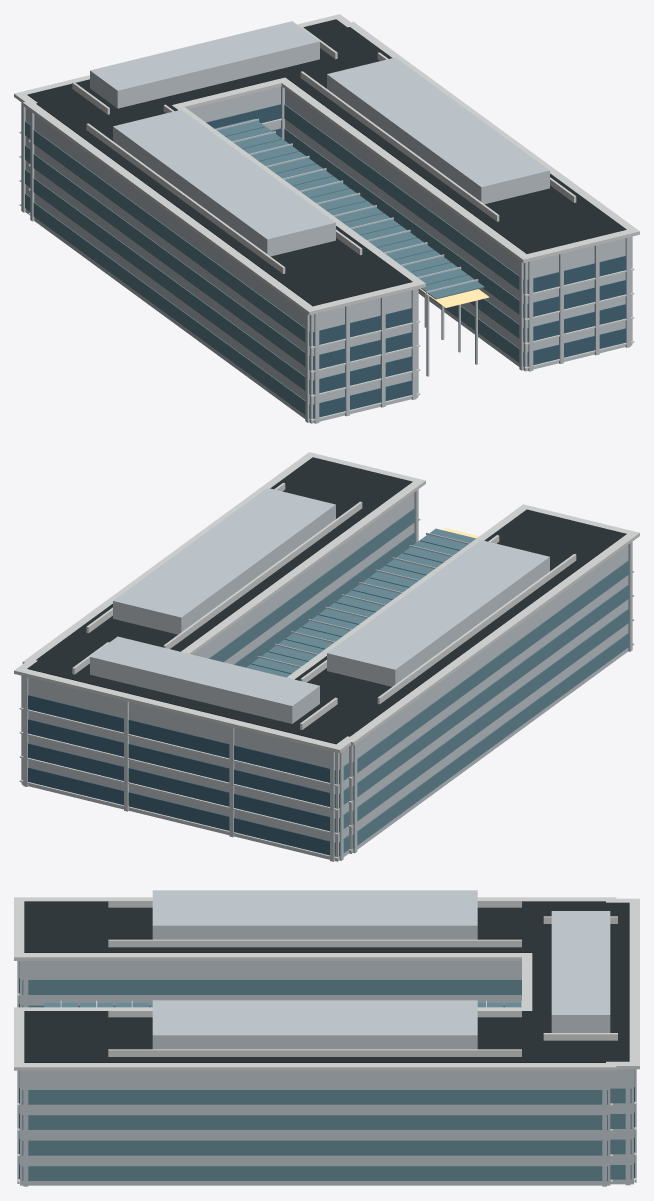
Rendered from medtech.glb.
The picture shows the model from 3 angles, top to bottom: view 1: azimuth 30°, elevation 25°; view 2: azimuth 150°, elevation 25°; view 3: azimuth 270°, elevation 25°; orthographic projection. The views are drawn at different scales.
Visible parts, largest first — view 1: medtech_ivory, medtech_glassLight, medtech_black, medtech_roof, medtech_glass; view 2: medtech_ivory, medtech_glassLight, medtech_black, medtech_roof, medtech_glass; view 3: medtech_ivory, medtech_glassLight, medtech_black, medtech_roof.
Boxes of the visible parts, left/top/right/bottom form: medtech_ivory: left=21, top=21, right=632, bottom=423; medtech_glassLight: left=25, top=104, right=524, bottom=418; medtech_black: left=27, top=19, right=626, bottom=306; medtech_roof: left=14, top=14, right=639, bottom=421; medtech_glass: left=206, top=104, right=625, bottom=418; medtech_ivory: left=21, top=488, right=632, bottom=861; medtech_glassLight: left=209, top=508, right=628, bottom=856; medtech_black: left=27, top=457, right=626, bottom=744; medtech_roof: left=14, top=452, right=639, bottom=859; medtech_glass: left=28, top=695, right=335, bottom=856; medtech_ivory: left=17, top=890, right=636, bottom=1186; medtech_glassLight: left=22, top=979, right=631, bottom=1180; medtech_black: left=24, top=901, right=629, bottom=1062; medtech_roof: left=14, top=897, right=639, bottom=1182.
Size of the model in its own units: 68 by 26.2 by 106.
